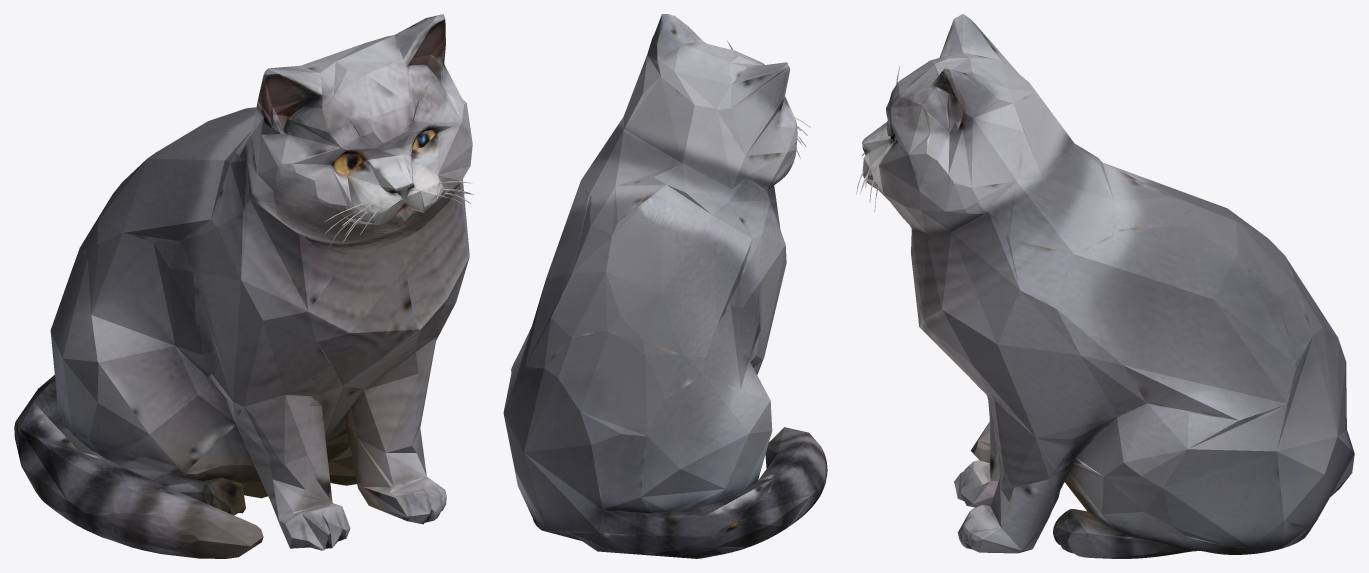
Rendered from sofacat.glb.
3 views of the same model, side by side, from view 1: azimuth 30°, elevation 25°; view 2: azimuth 150°, elevation 25°; view 3: azimuth 270°, elevation 25° (orthographic). The views are drawn at different scales.
Visible parts, largest first — view 1: cat; view 2: cat; view 3: cat.
Part boxes in pixels (x1,y1,x2,y2): cat: (14,14,473,558); cat: (503,14,827,558); cat: (856,14,1354,558).
Bounding box in the file's own units: 0.6436 × 0.9123 × 0.8547.
1 material, 1 textured.
